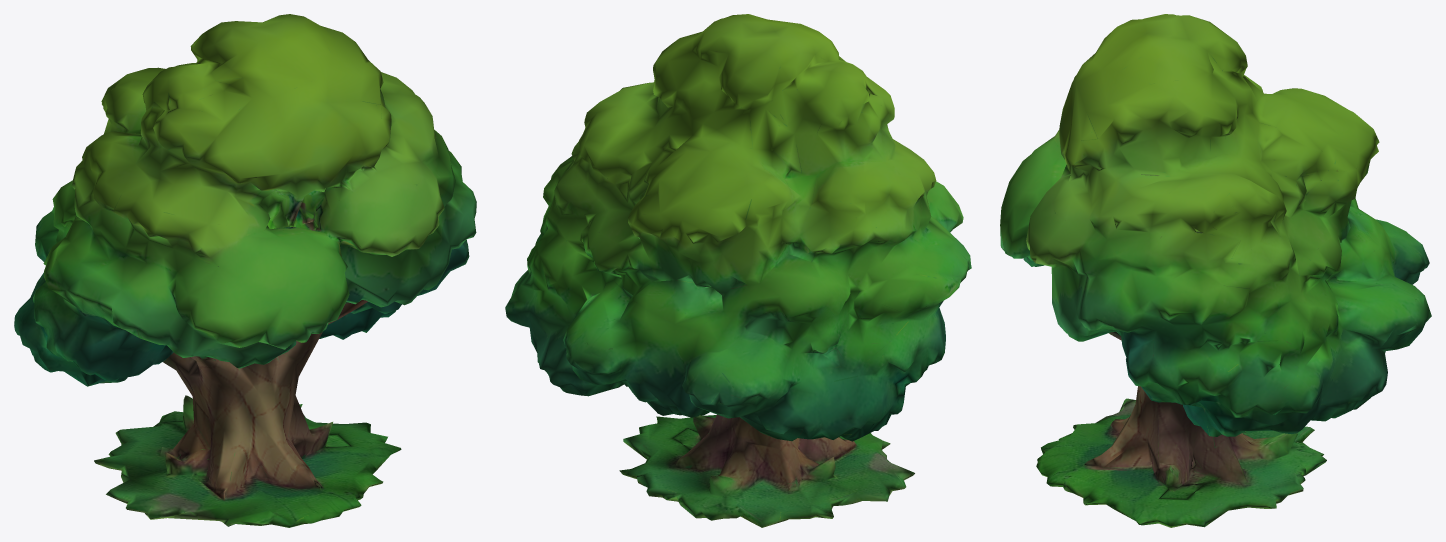
File: treeA01.fbx
3 views of the same model, side by side, from view 1: azimuth 30°, elevation 25°; view 2: azimuth 150°, elevation 25°; view 3: azimuth 270°, elevation 25° (orthographic). The views are drawn at different scales.
Parts seen in each view (by area): view 1: treeA01; view 2: treeA01; view 3: treeA01.
Boxes of the visible parts, left/top/right/bottom form: treeA01: left=14, top=14, right=476, bottom=527; treeA01: left=505, top=14, right=971, bottom=527; treeA01: left=1000, top=14, right=1431, bottom=527.
Bounding box in the file's own units: 139 × 144 × 127.
1 material, 1 textured.
